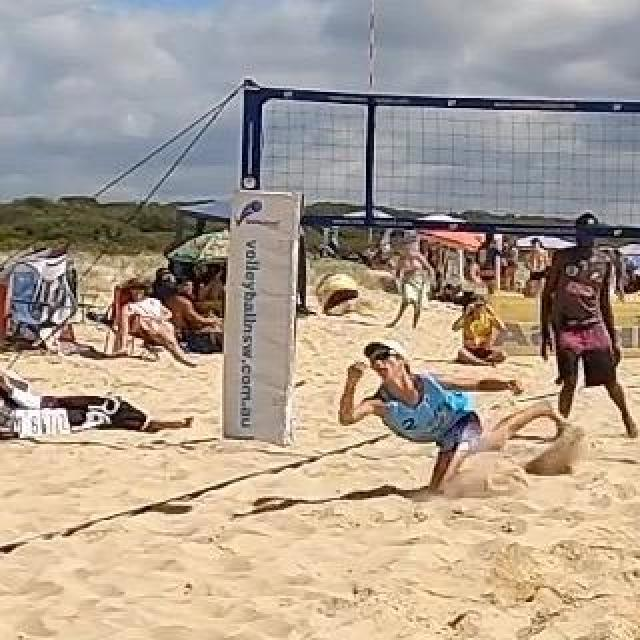volleyball: (315, 273, 359, 317)
